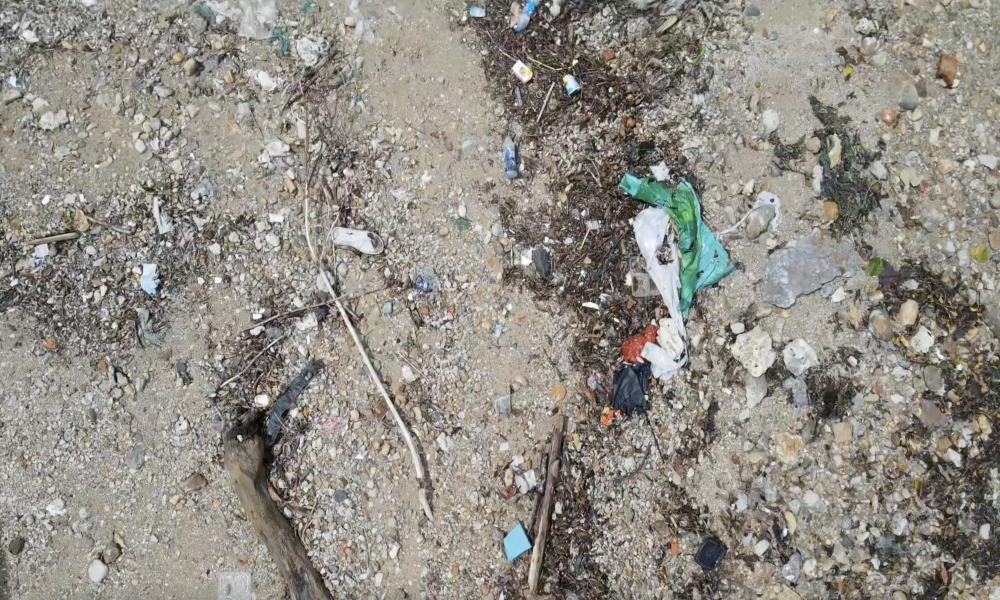carton: (512, 56, 534, 87)
plastic bag: (623, 174, 733, 319), (634, 208, 689, 380)
plastic bottle: (503, 134, 518, 182)
